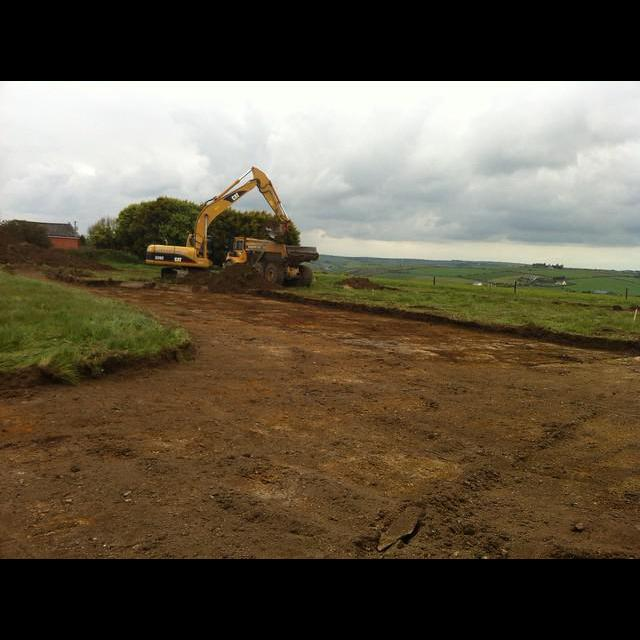Excavator: (145, 165, 320, 288)
